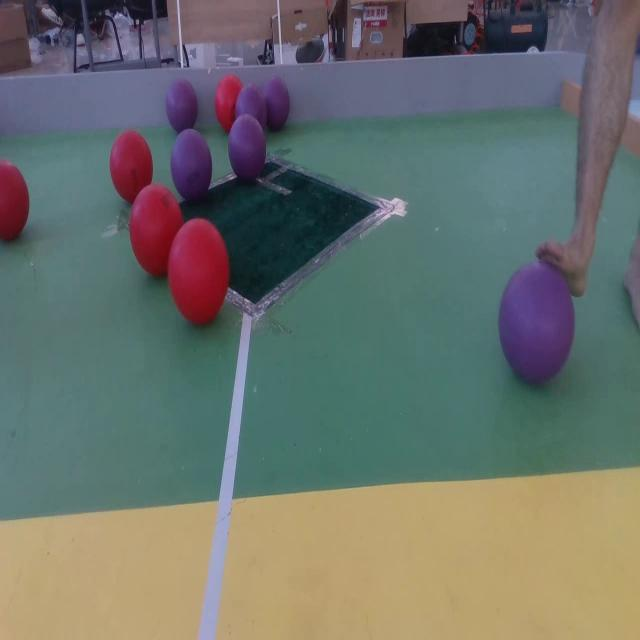invalid: (500, 256, 574, 382), (170, 131, 213, 205), (228, 113, 264, 183), (162, 79, 198, 131), (262, 75, 292, 124)
red: (168, 218, 230, 325), (131, 181, 183, 280), (108, 126, 154, 198), (1, 160, 30, 246), (215, 75, 242, 130)
